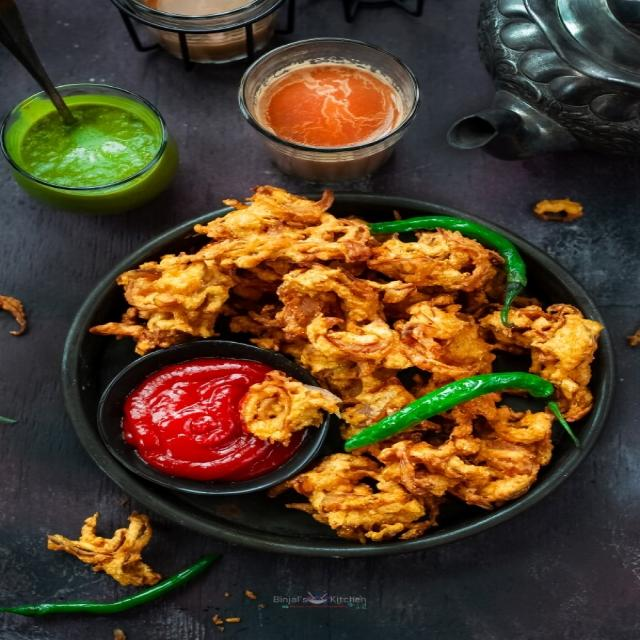BAJI: (92, 180, 599, 549)
